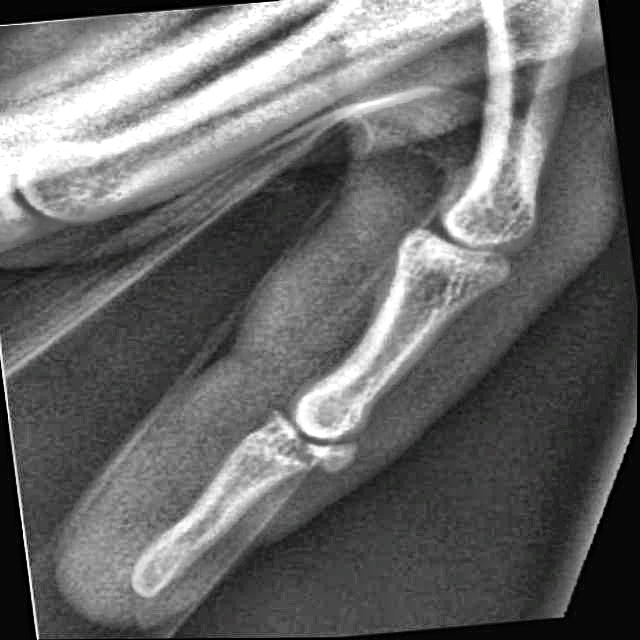Greenstick: (256, 405, 370, 474)
